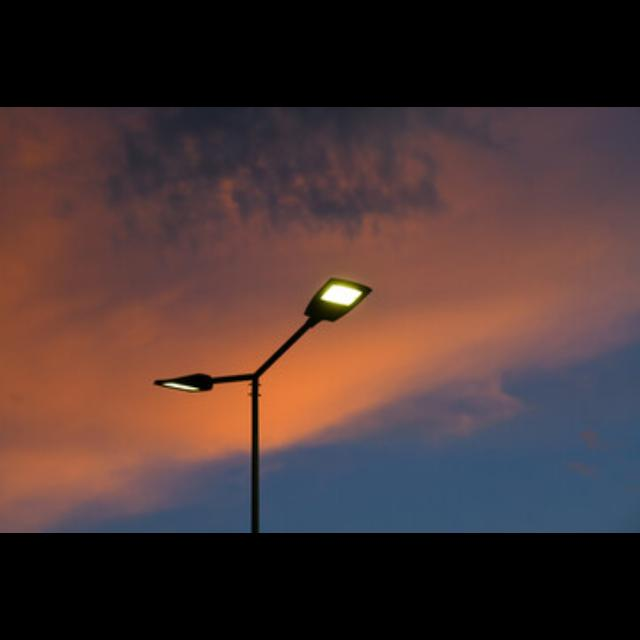Street-Lamp: (146, 271, 377, 534)
